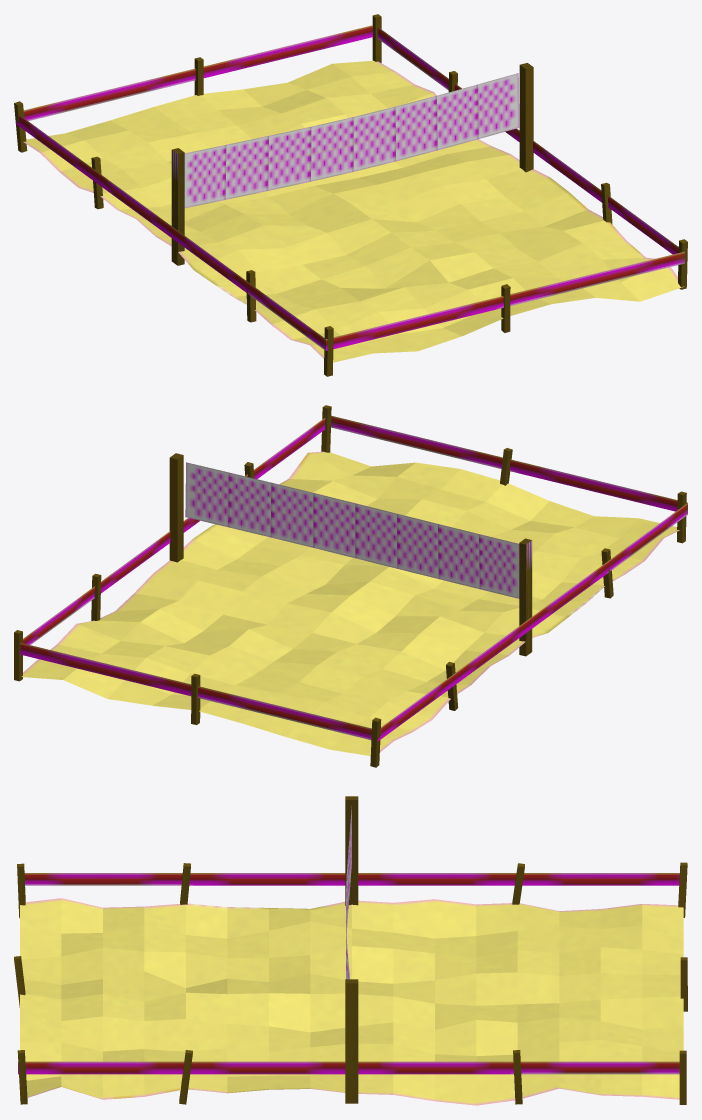
Rendered from court5.obj.
The picture shows the model from 3 angles, top to bottom: view 1: azimuth 30°, elevation 25°; view 2: azimuth 150°, elevation 25°; view 3: azimuth 270°, elevation 25°; orthographic projection. The views are drawn at different scales.
Visible parts, largest first — view 1: Plane, Plane.001; view 2: Plane, Plane.001; view 3: Plane, Plane.001.
Part boxes in pixels (x1,y1,x2,y2): Plane: (14, 14, 687, 376); Plane.001: (184, 73, 519, 208); Plane: (14, 405, 687, 767); Plane.001: (185, 462, 519, 598); Plane: (14, 796, 687, 1105); Plane.001: (346, 806, 351, 979).
Size of the model in its own units: 20.45 by 6.09 by 30.46.
1 material, 1 textured.
